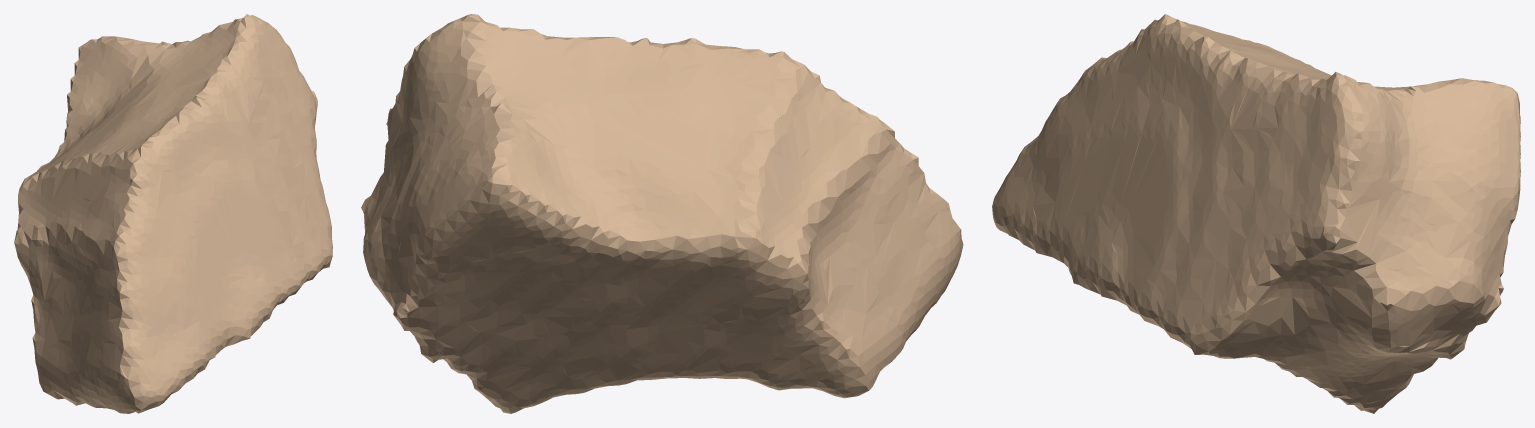
The model's file is Model_34_RH__Area_6_of_cortex__dorsorostral_part_(A6DR).obj.
The picture shows the model from 3 angles, left to right: view 1: azimuth 30°, elevation 25°; view 2: azimuth 150°, elevation 25°; view 3: azimuth 270°, elevation 25°; orthographic projection. The views are drawn at different scales.
Size of the model in its own units: 3.59 by 3.08 by 4.04.
